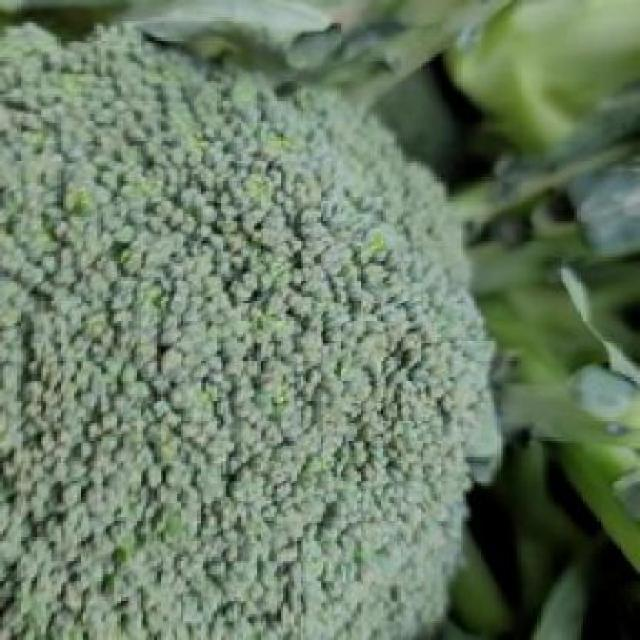broccoli: (7, 22, 482, 636)
